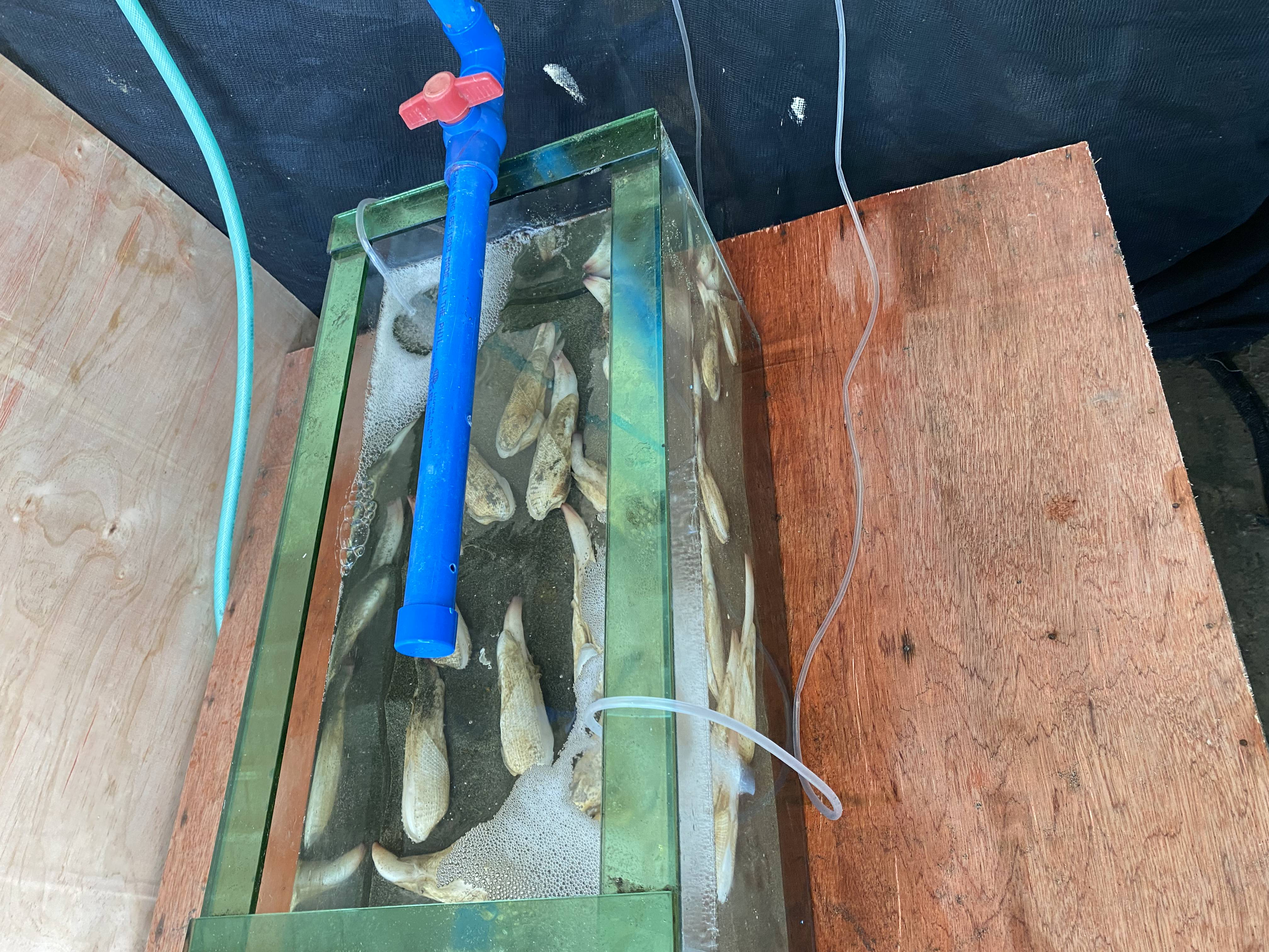Healthy: (497, 596, 553, 775), (402, 658, 449, 842), (528, 350, 578, 519), (496, 322, 556, 458), (560, 503, 601, 678), (373, 842, 489, 903), (386, 860, 387, 864)
